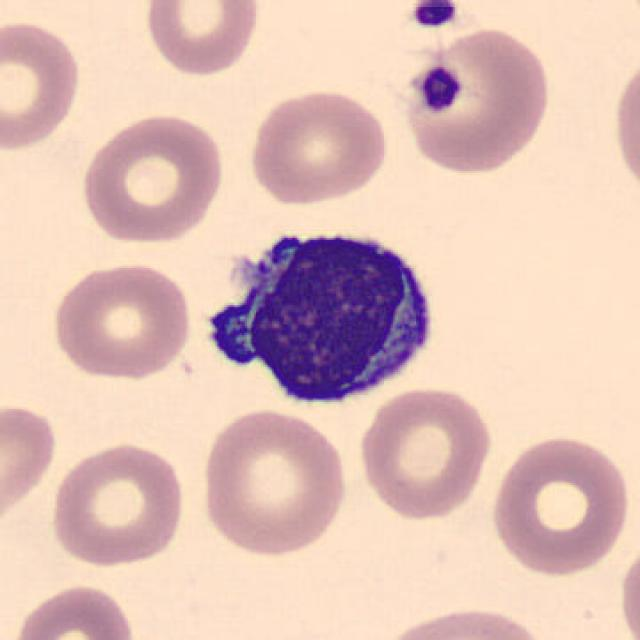Lymphocyte: (196, 215, 446, 414)
Platelets: (409, 62, 466, 115), (407, 0, 461, 32)
RBC: (400, 21, 555, 178), (197, 404, 352, 559), (485, 430, 633, 578), (76, 109, 228, 247), (354, 382, 496, 522), (46, 438, 188, 570), (46, 258, 194, 384), (245, 85, 391, 208), (0, 14, 85, 155), (140, 0, 263, 79), (0, 398, 60, 530), (9, 580, 139, 640), (370, 603, 556, 640), (608, 48, 640, 202), (615, 534, 640, 640)
